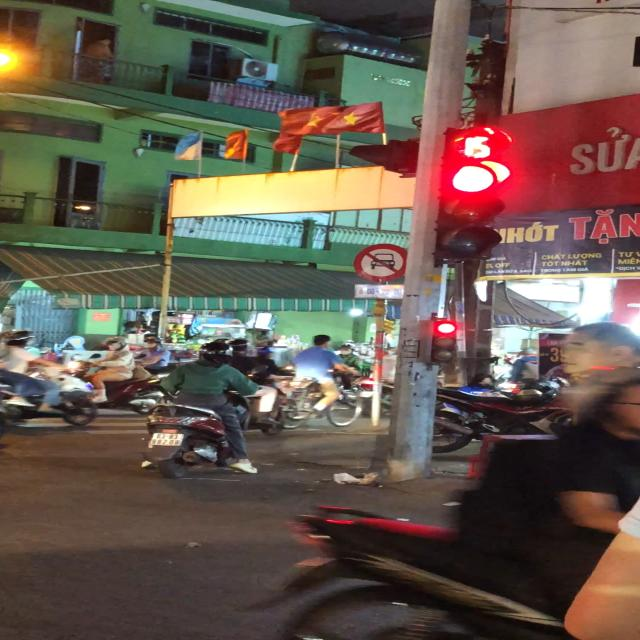Bien bao cam xe oto: (350, 242, 410, 284)
